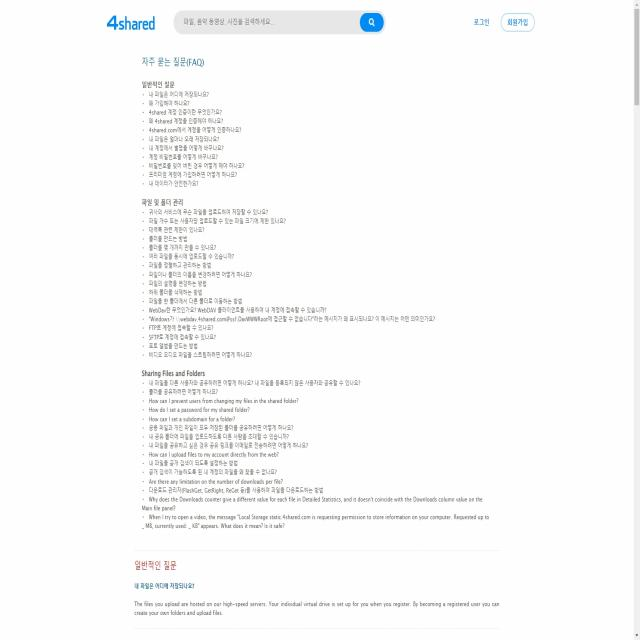menu-bar: (471, 10, 536, 37)
search: (170, 6, 387, 37)
